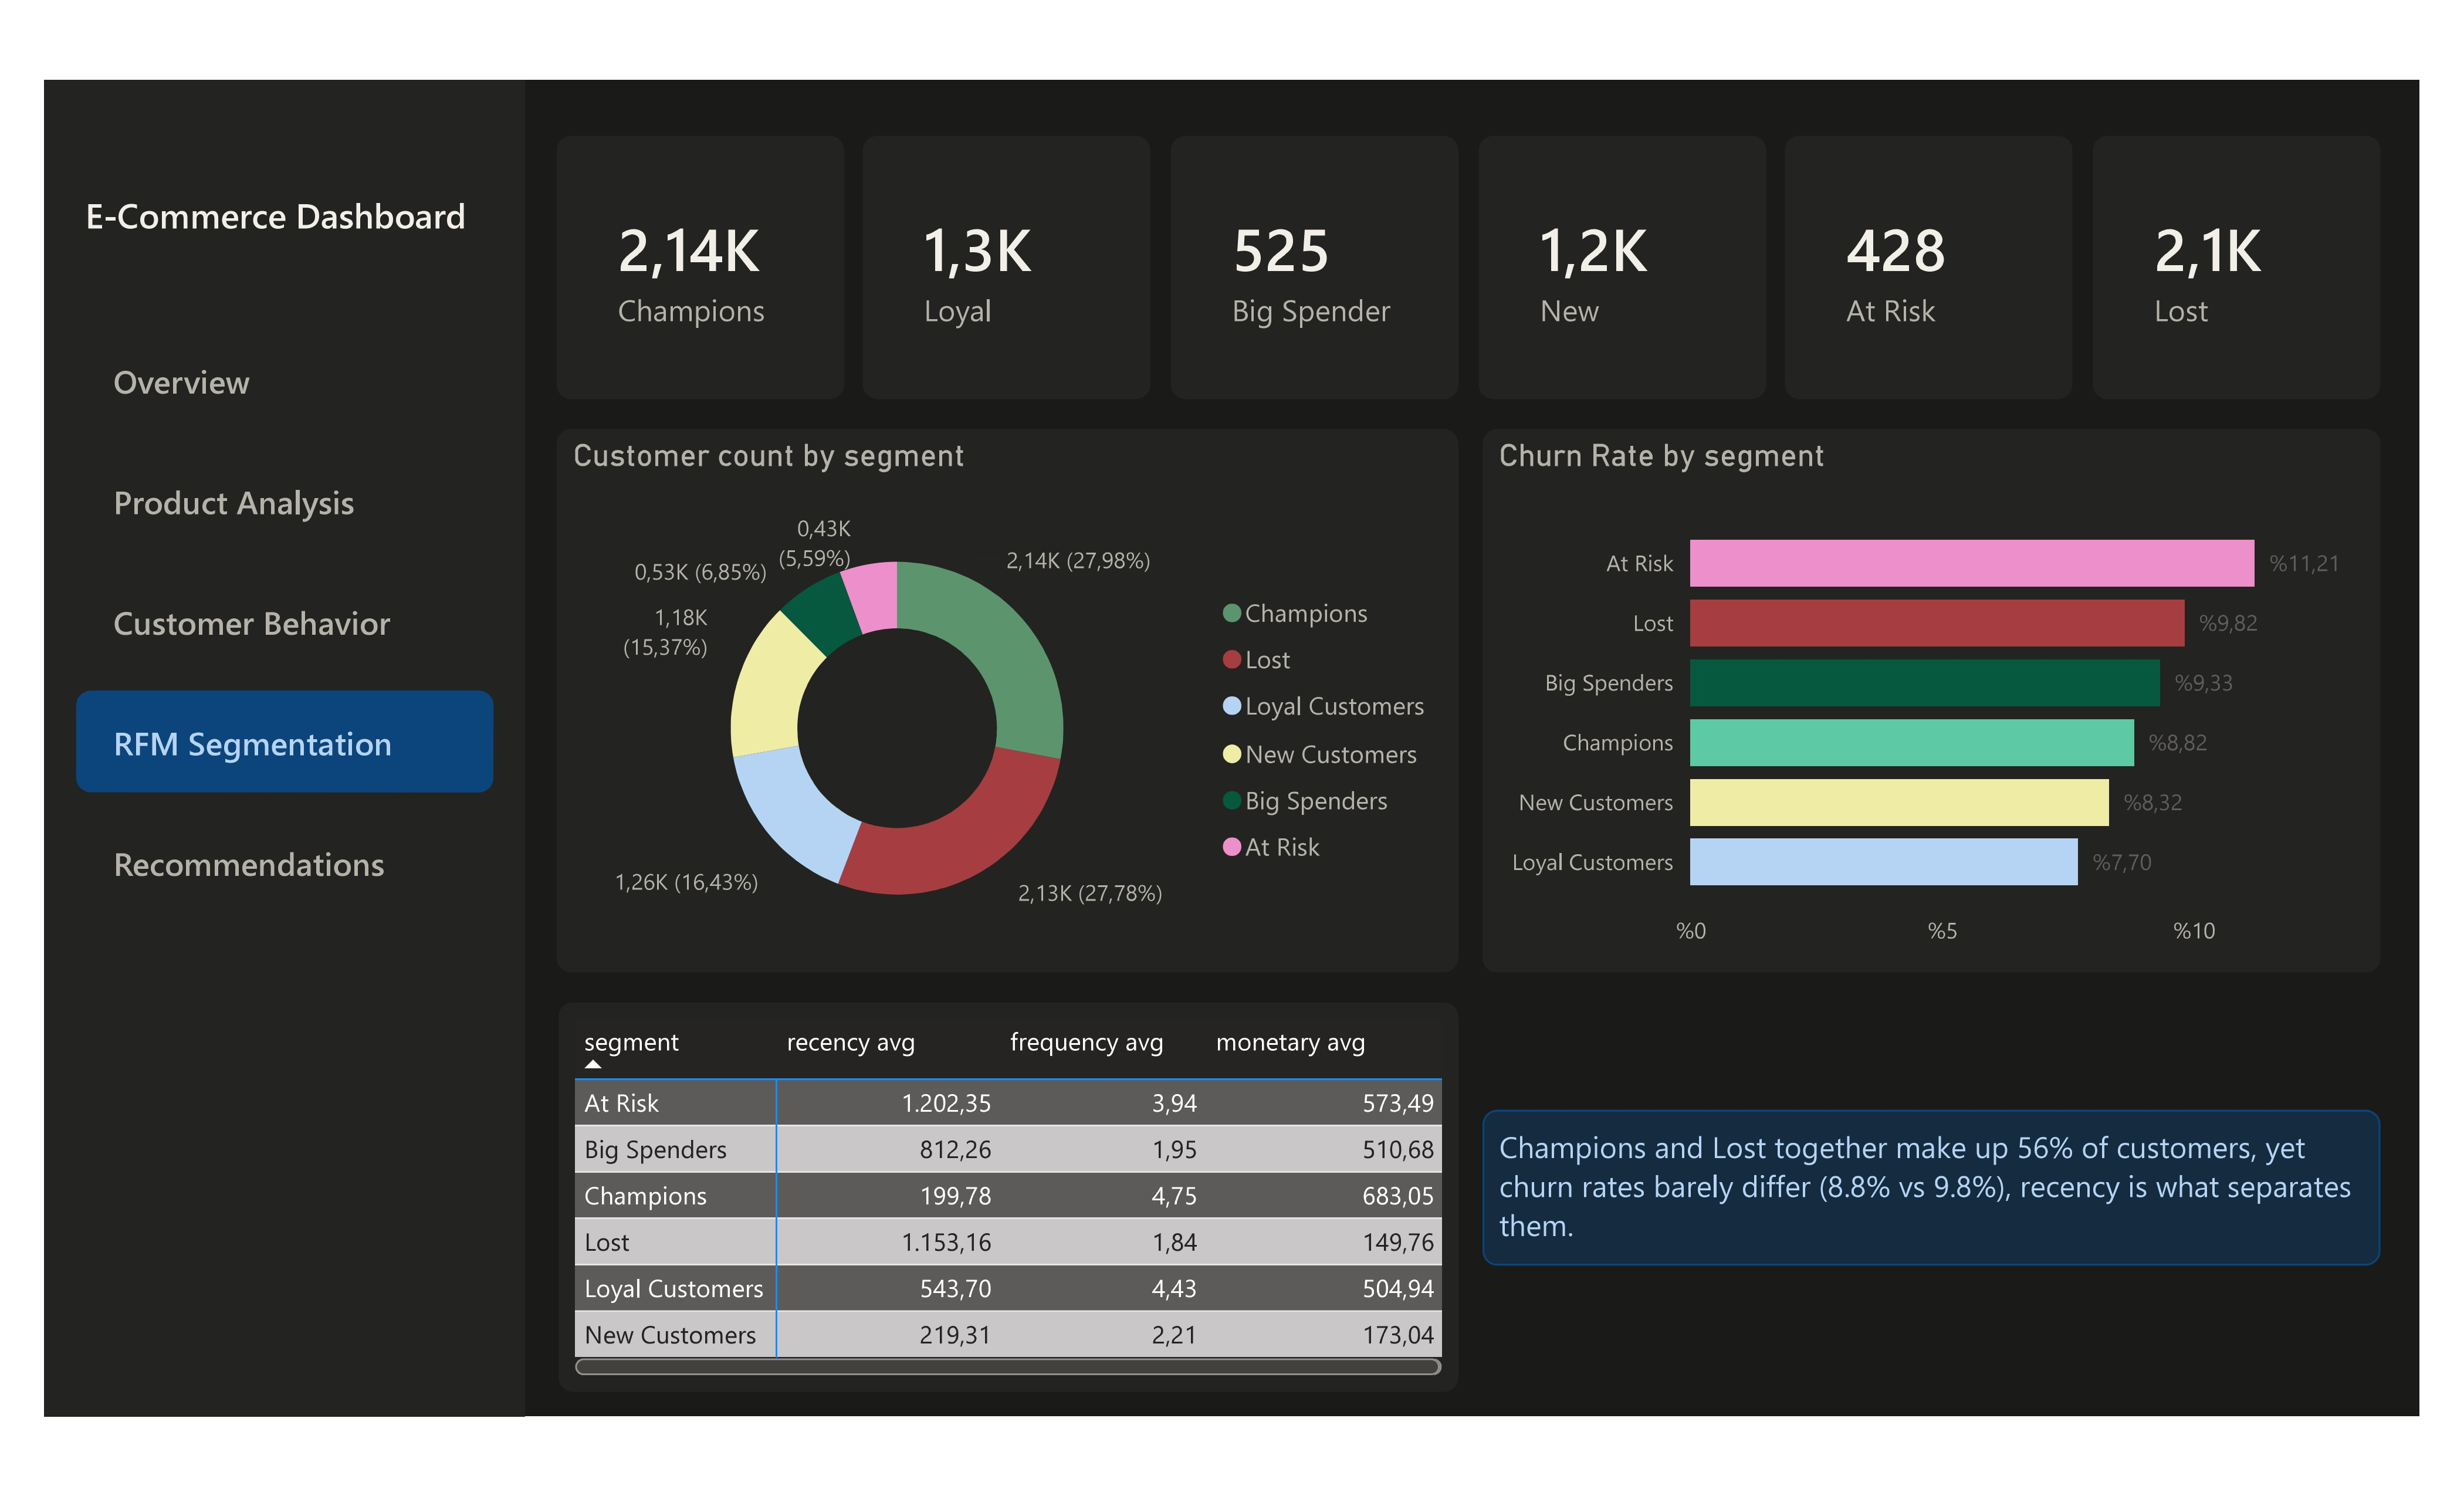

The page's visual inventory and layout, read from the dashboard file:
{"tool":"powerbi","page":{"name":"RFM Segmentation","canvas":[1280,720],"ordinal":3},"visuals":[{"type":"shape","box":[0,0,259.5,720.5],"z":0},{"type":"pageNavigator","box":[17.2,134.4,225.1,318.8],"z":1000},{"type":"textbox","box":[17.2,54.7,225.1,96.9],"z":2000},{"type":"textbox","box":[775.2,555.3,483.3,83.4],"z":3000},{"type":"cardVisual","fields":{"Data":["public rfm_segmented.Champions Count"]},"box":[275.9,30.2,155,141.7],"z":4000},{"type":"donutChart","fields":{"Category":["public rfm_segmented.segment"],"Y":["CountNonNull(public rfm_segmented.customer_id)"]},"box":[276.1,188.1,485.7,292.9],"z":5000},{"type":"cardVisual","fields":{"Data":["public rfm_segmented.Loyal"]},"box":[441.5,30.2,155,141.7],"z":6000},{"type":"cardVisual","fields":{"Data":["Query1.Big Spenders"]},"box":[607,30.2,155,141.7],"z":7000},{"type":"cardVisual","fields":{"Data":["public rfm_segmented.At Risk"]},"box":[938.1,30.2,155,141.7],"z":8000},{"type":"cardVisual","fields":{"Data":["public rfm_segmented.Lost"]},"box":[1103.6,30.2,155,141.7],"z":9000},{"type":"cardVisual","fields":{"Data":["public rfm_segmented.New Customers"]},"box":[772.5,30.2,155,141.7],"z":10000},{"type":"clusteredBarChart","fields":{"Y":["public rfm_segmented.Churn Rate"],"Category":["public rfm_segmented.segment"]},"box":[775,188.1,483.8,292.9],"z":11000},{"type":"pivotTable","fields":{"Values":["public rfm_segmented.recencyavg","public rfm_segmented.frequency avg","public rfm_segmented.monetary vg"],"Rows":["public rfm_segmented.segment"]},"box":[276.7,496.6,485.2,210.4],"z":12000}]}

Visuals, with their boxes on the page's 1280x720 design canvas (x1, y1, x2, y2). These are canvas units, not pixel positions in the 2464x1496 screenshot, which may show the page scaled, cropped or inside an application window:
shape: (left=0, top=0, right=260, bottom=720)
pageNavigator: (left=17, top=134, right=242, bottom=453)
textbox: (left=17, top=55, right=242, bottom=152)
textbox: (left=775, top=555, right=1258, bottom=639)
cardVisual - public rfm_segmented.Champions Count: (left=276, top=30, right=431, bottom=172)
donutChart - public rfm_segmented.segment x CountNonNull(public rfm_segmented.customer_id): (left=276, top=188, right=762, bottom=481)
cardVisual - public rfm_segmented.Loyal: (left=442, top=30, right=596, bottom=172)
cardVisual - Query1.Big Spenders: (left=607, top=30, right=762, bottom=172)
cardVisual - public rfm_segmented.At Risk: (left=938, top=30, right=1093, bottom=172)
cardVisual - public rfm_segmented.Lost: (left=1104, top=30, right=1259, bottom=172)
cardVisual - public rfm_segmented.New Customers: (left=772, top=30, right=928, bottom=172)
clusteredBarChart - public rfm_segmented.Churn Rate x public rfm_segmented.segment: (left=775, top=188, right=1259, bottom=481)
pivotTable - public rfm_segmented.recencyavg x public rfm_segmented.frequency avg: (left=277, top=497, right=762, bottom=707)
